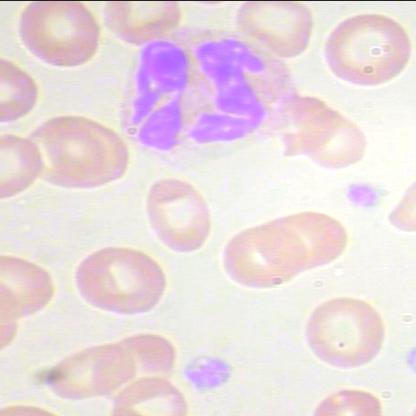Platelets: (178, 350, 236, 394), (337, 178, 381, 216)
RBC: (20, 112, 132, 198), (318, 8, 416, 92), (296, 290, 390, 375), (71, 238, 169, 318), (46, 334, 142, 407), (254, 206, 350, 279), (14, 1, 107, 76), (216, 221, 312, 291), (141, 176, 213, 255), (294, 104, 372, 174), (230, 1, 318, 60), (1, 248, 60, 328), (99, 1, 186, 54), (100, 373, 190, 415), (0, 54, 44, 131), (0, 129, 44, 206)
WBC: (113, 24, 296, 169)
